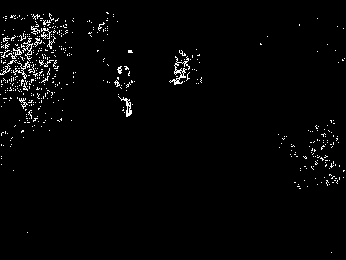person: (111, 62, 140, 119)
